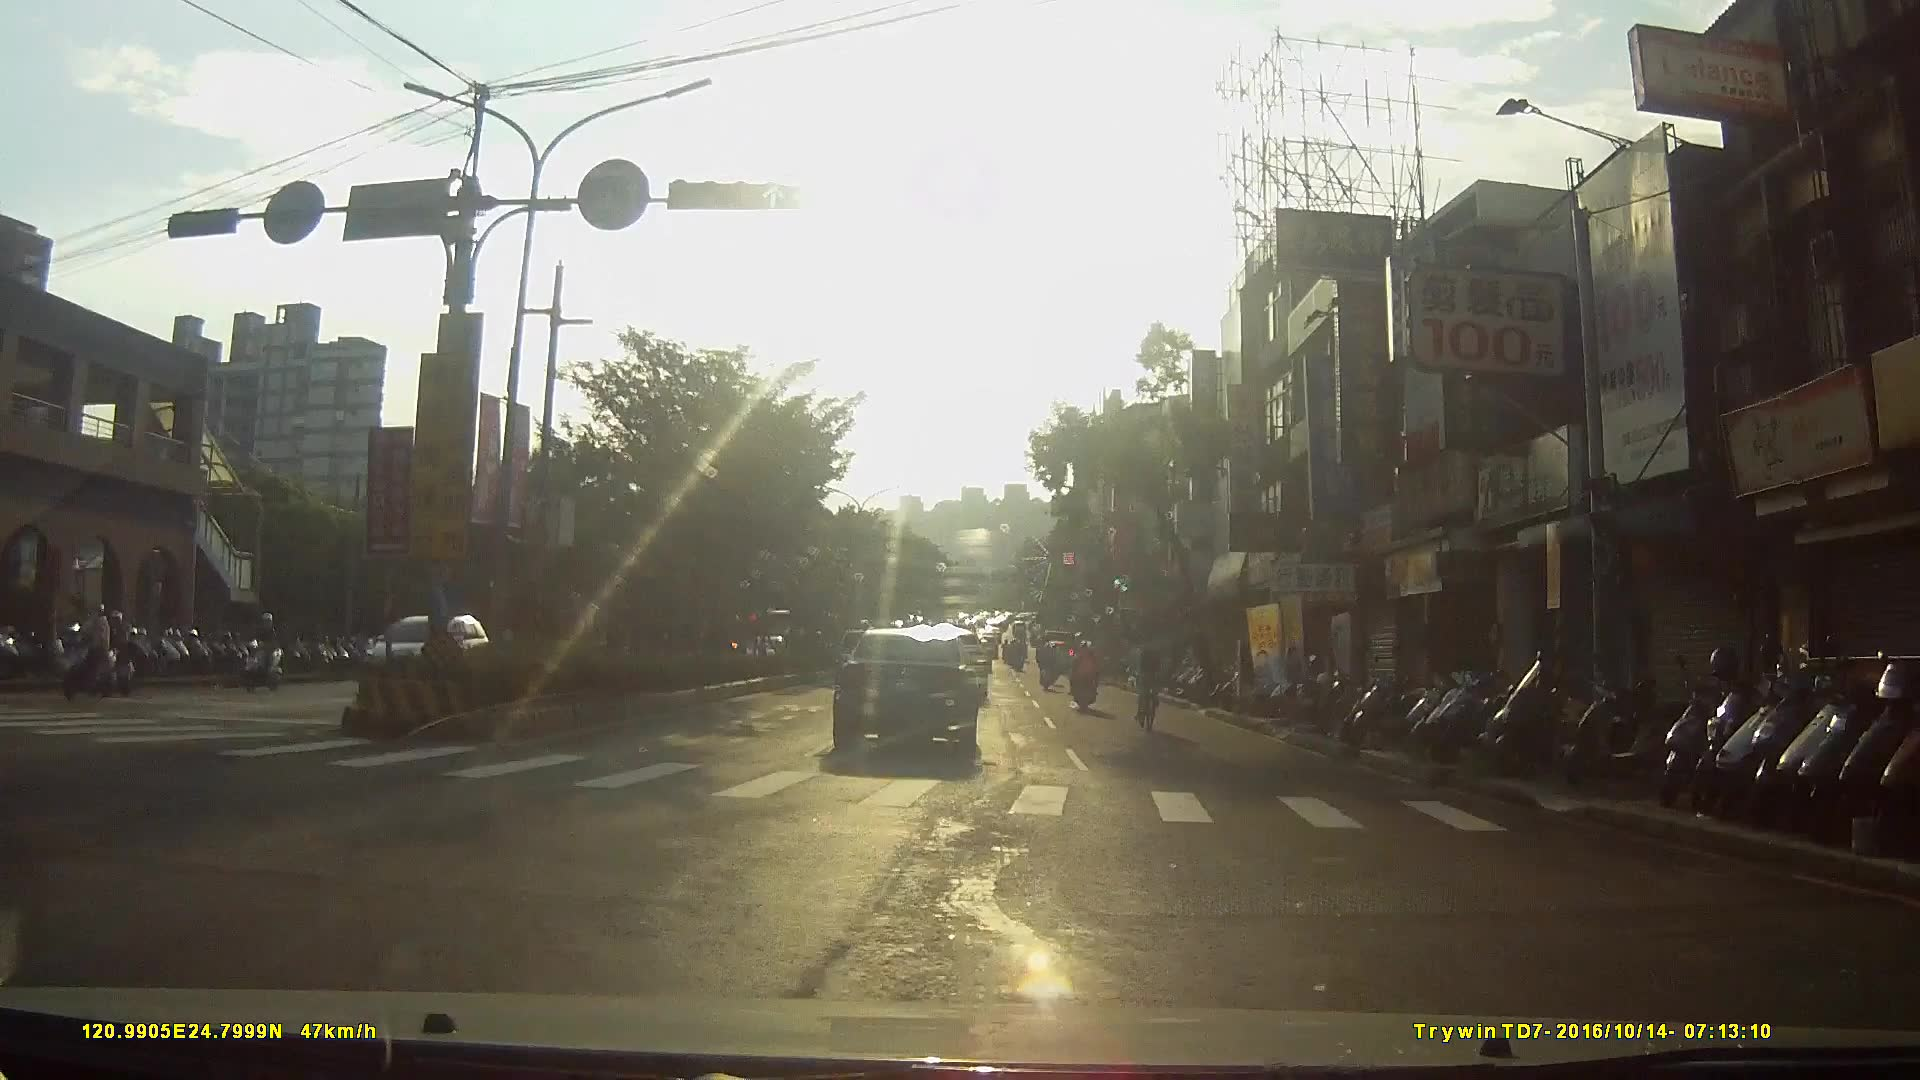rider: (48, 597, 122, 696), (1128, 617, 1171, 718), (245, 612, 285, 692), (1073, 639, 1101, 714), (1035, 640, 1061, 694)
vehicle: (835, 609, 992, 754)
